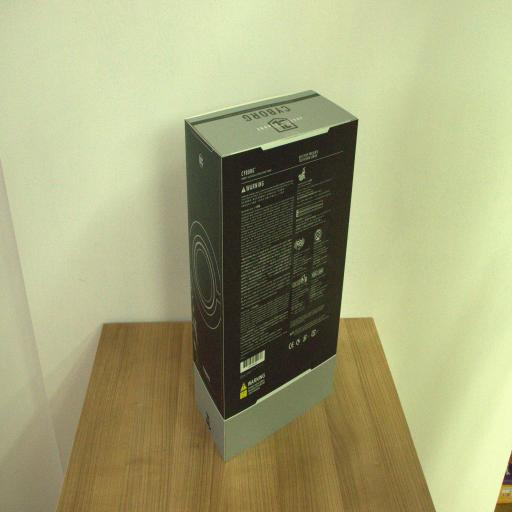Cyborg: (182, 90, 358, 461)
